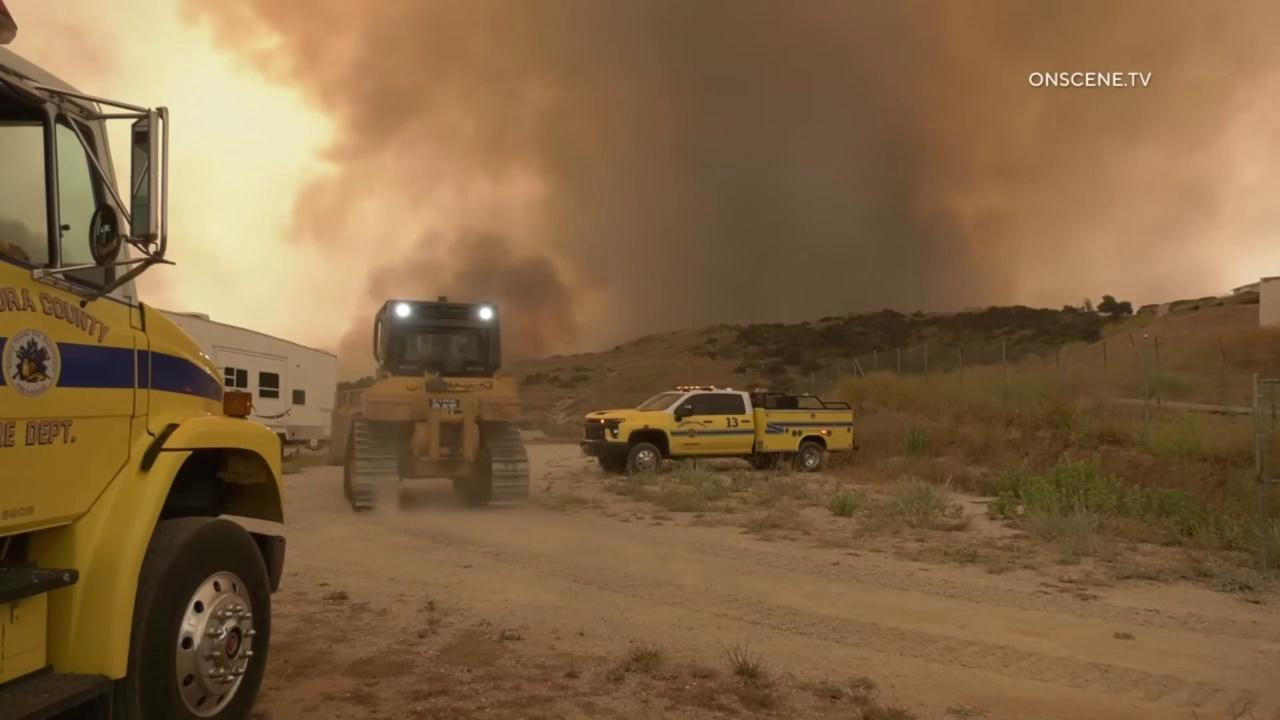smoke: (174, 0, 1280, 360)
